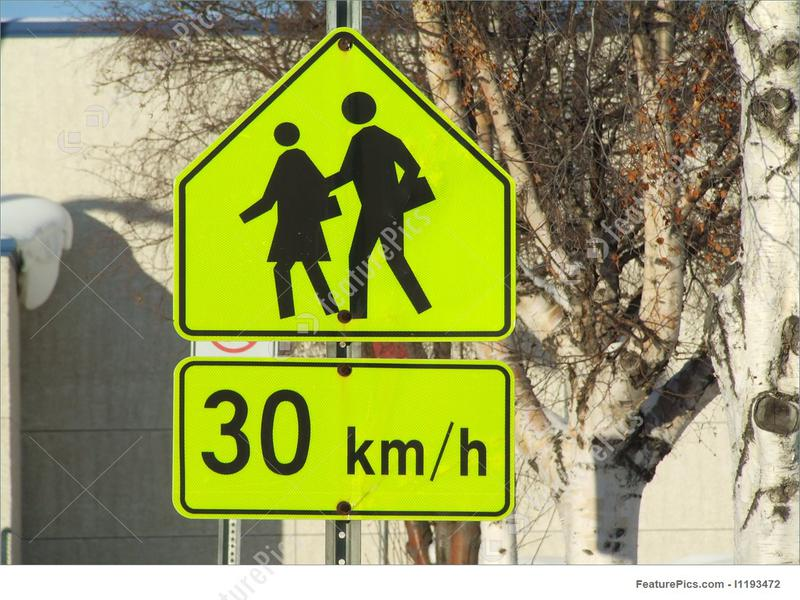slow: (168, 31, 524, 351)
